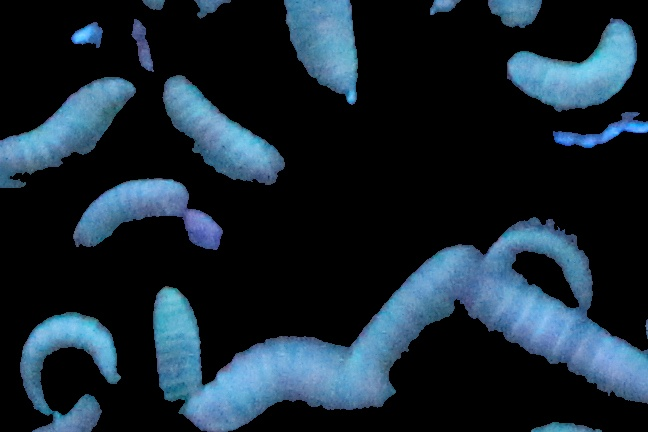larvae: (479, 273, 648, 403), (184, 338, 396, 432), (364, 242, 480, 384), (1, 77, 138, 191), (160, 71, 284, 180), (509, 22, 638, 113), (484, 217, 596, 314), (17, 315, 122, 417), (71, 180, 186, 256), (278, 1, 358, 104), (153, 280, 202, 425)
